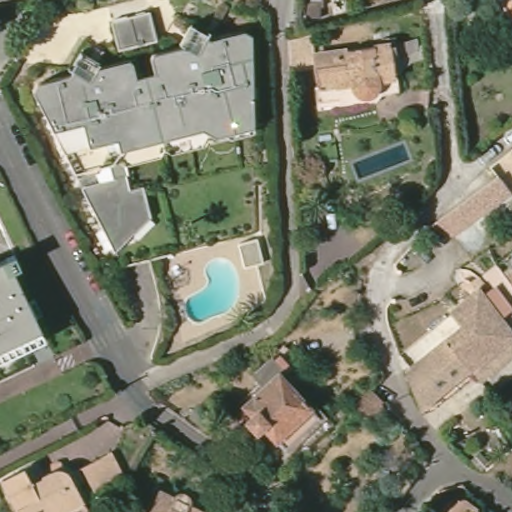pool: (183, 257, 244, 322), (352, 139, 415, 181)
